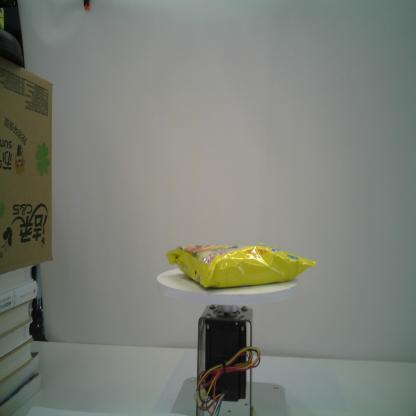Instant Noodles: (165, 241, 317, 290)
